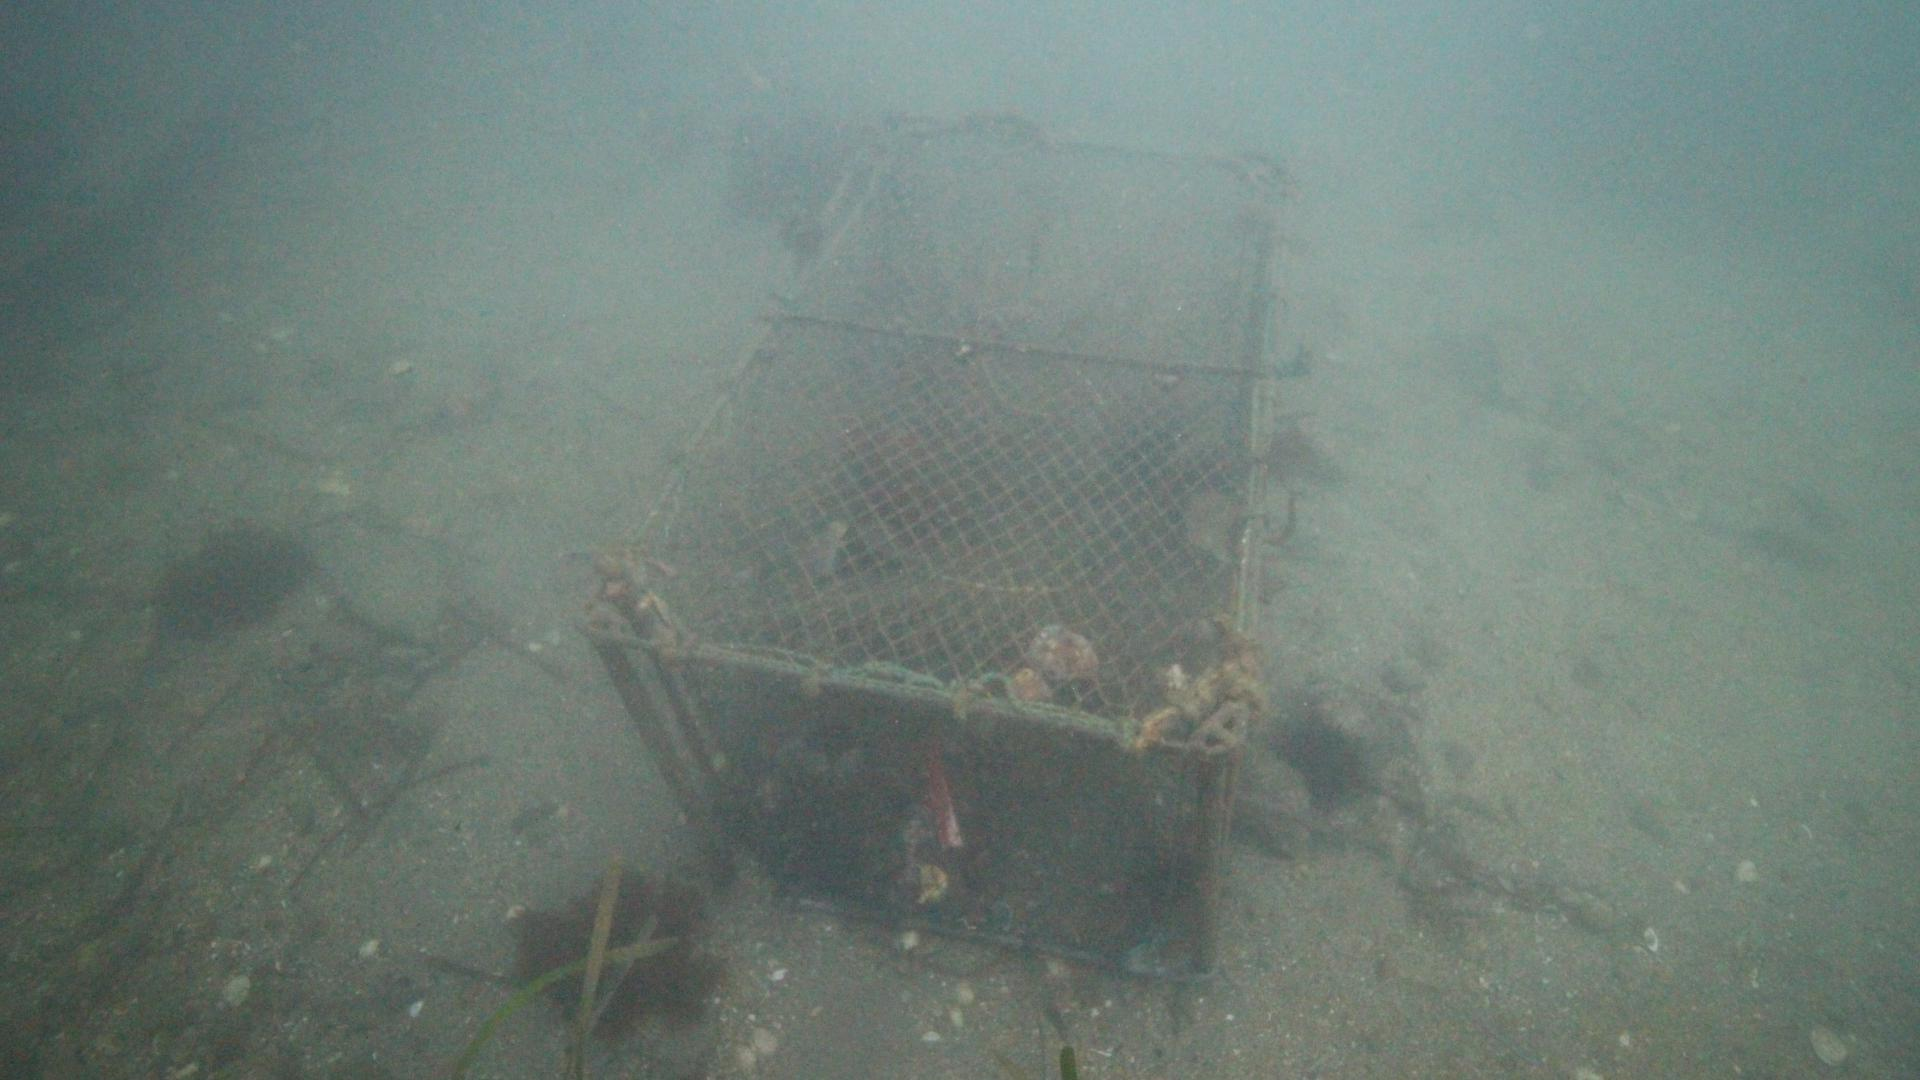rectangular fish trap: (574, 121, 1288, 996)
